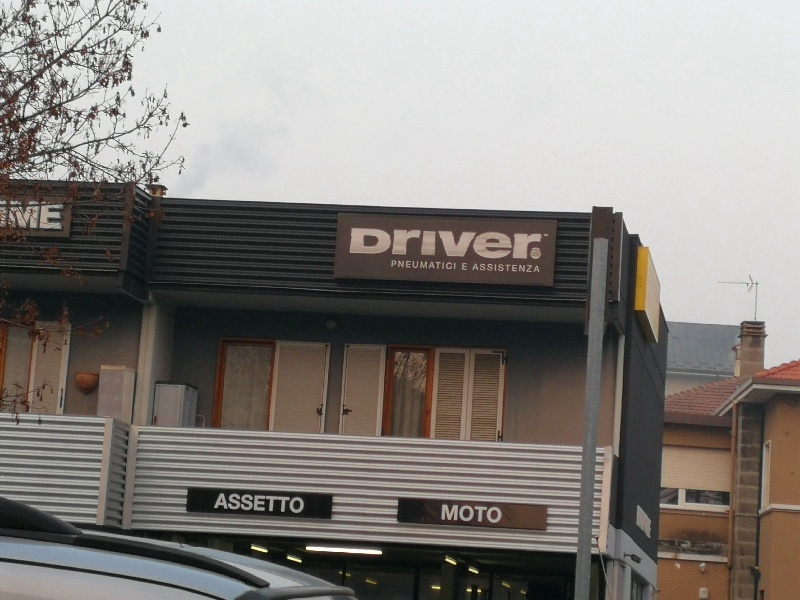text: (353, 227, 368, 263), (369, 227, 384, 263), (385, 227, 400, 263), (401, 227, 416, 263), (417, 227, 432, 263), (433, 227, 448, 263), (449, 227, 464, 263), (465, 227, 480, 263), (481, 227, 496, 263), (497, 227, 512, 263), (513, 227, 528, 263), (49, 200, 65, 232), (1, 197, 16, 230), (17, 200, 32, 232), (33, 200, 48, 232), (529, 227, 542, 263), (289, 493, 305, 515), (225, 493, 240, 515), (241, 493, 256, 515), (257, 493, 272, 515), (273, 493, 288, 515), (449, 505, 464, 524), (465, 505, 480, 524), (481, 505, 496, 524), (10, 200, 16, 232), (401, 260, 416, 270), (417, 260, 432, 270), (433, 260, 448, 270), (481, 263, 496, 273), (497, 263, 512, 273), (513, 263, 528, 273), (442, 505, 448, 524), (497, 505, 503, 524), (529, 263, 540, 273), (391, 260, 400, 270), (220, 493, 224, 515), (449, 260, 456, 270), (475, 263, 480, 273), (351, 227, 352, 263), (465, 264, 468, 271), (462, 264, 464, 271), (545, 234, 549, 237)
